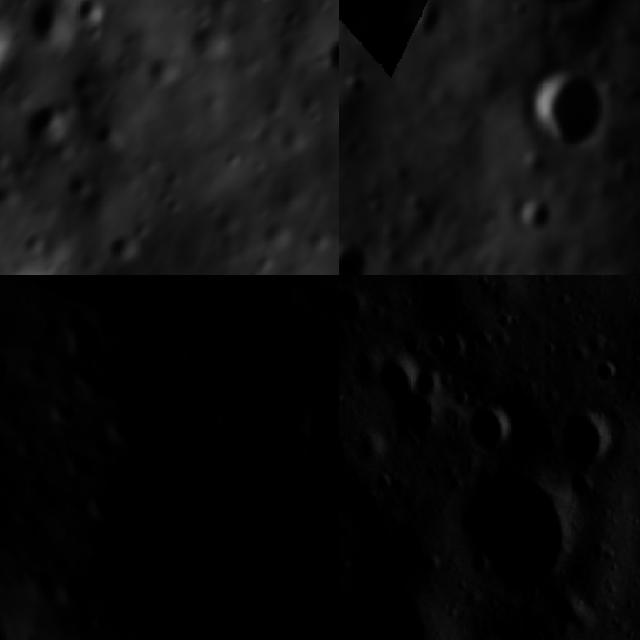crater: (448, 466, 578, 608), (517, 53, 620, 165), (365, 348, 450, 451), (544, 401, 622, 481), (457, 397, 520, 460), (504, 190, 564, 242), (24, 0, 71, 51), (27, 96, 69, 148), (62, 312, 103, 363), (100, 404, 150, 444), (339, 229, 377, 275), (59, 438, 97, 477), (62, 572, 100, 611), (88, 117, 125, 151), (84, 483, 118, 520), (42, 395, 80, 426), (259, 362, 288, 402), (174, 343, 214, 372), (322, 24, 339, 79), (208, 403, 237, 429), (219, 449, 243, 474), (0, 347, 13, 381)
